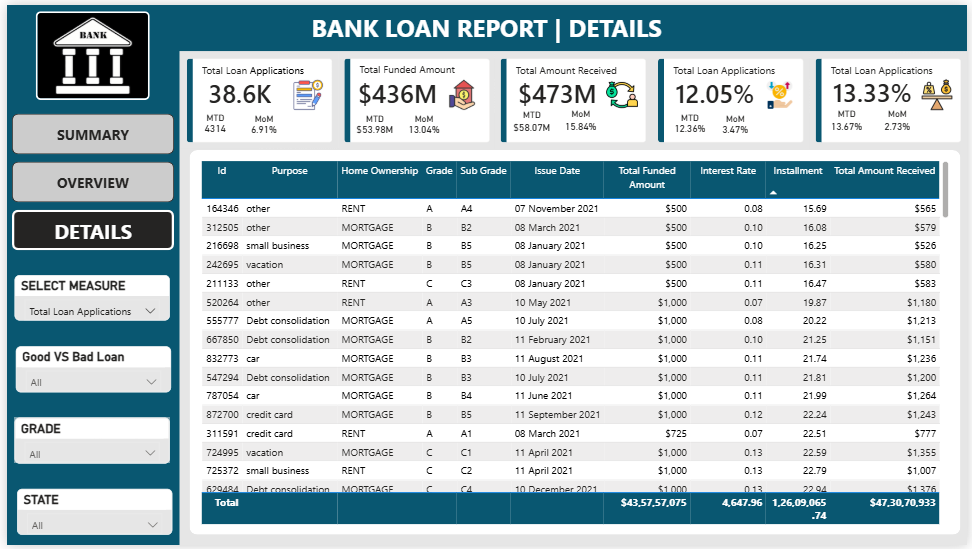

This screenshot's page, from the dashboard's own definition file:
{"tool":"powerbi","page":{"name":"DETAILS","canvas":[1280,720],"ordinal":2},"visuals":[{"type":"shape","box":[0,0,230,720],"z":0},{"type":"cardVisual","fields":{"Data":["financial_loan.Avg DTI"]},"box":[1070,63,210,128.8],"z":0,"group":"g4"},{"type":"cardVisual","fields":{"Data":["financial_loan.Total Loan Applications"]},"box":[231.7,63.3,210,128],"z":0,"group":"g1"},{"type":"cardVisual","fields":{"Data":["financial_loan.Total Amount Received"]},"box":[650,63.8,210,128.8],"z":0,"group":"g2"},{"type":"cardVisual","fields":{"Data":["financial_loan.Avg Interest Rate"]},"box":[860,63.8,210,128.8],"z":0,"group":"g3"},{"type":"shape","box":[0,0,1280,61.4],"z":1000},{"type":"textbox","box":[1093.3,72.3,169,31.9],"z":1000,"group":"g4"},{"type":"textbox","box":[255,72.6,169,31.7],"z":1000,"group":"g1"},{"type":"textbox","box":[673.3,73.1,169,31.9],"z":1000,"group":"g2"},{"type":"textbox","box":[883.3,73.1,169,31.9],"z":1000,"group":"g3"},{"type":"cardVisual","fields":{"Data":["financial_loan.Total Funded Amount"]},"box":[441,63,210,128.8],"z":2000},{"type":"card","title":"MTD","fields":{"Values":["financial_loan.MTD DTI"]},"box":[1093.3,138.6,52.2,41.1],"z":2000,"group":"g4"},{"type":"card","title":"MTD","fields":{"Values":["financial_loan.MTD Total Amount Received"]},"box":[668.6,139.7,62.9,41.4],"z":2000,"group":"g2"},{"type":"card","title":"MTD","fields":{"Values":["financial_loan.MTD Loan Applications"]},"box":[255,143.7,45.5,35.8],"z":2000,"group":"g1"},{"type":"card","title":"MTD","fields":{"Values":["financial_loan.MTD Interest Rate"]},"box":[883.6,144,54.5,37.3],"z":2000,"group":"g3"},{"type":"textbox","box":[361.4,2.9,555.7,55.7],"z":3000},{"type":"card","title":"MoM","fields":{"Values":["financial_loan.MOM Total Amount Received"]},"box":[737.8,138.5,53.3,42.2],"z":3000,"group":"g2"},{"type":"card","title":"MoM","fields":{"Values":["financial_loan.MOM DTI"]},"box":[1161.1,138.6,51.1,41.1],"z":3000,"group":"g4"},{"type":"card","title":"MoM","fields":{"Values":["financial_loan.MOM Loan Applications"]},"box":[319.7,144.3,45.5,35.5],"z":3000,"group":"g1"},{"type":"card","title":"MoM","fields":{"Values":["financial_loan.MOM Interest Rate"]},"box":[948,145.3,45.5,35.7],"z":3000,"group":"g3"},{"type":"textbox","box":[464.3,72.3,169,31.9],"z":4000},{"type":"card","title":"MTD","fields":{"Values":["financial_loan.MTD Funded Amount"]},"box":[458.6,144.3,64.3,35.7],"z":5000},{"type":"card","title":"MoM","fields":{"Values":["financial_loan.MOM Funded Amount"]},"box":[529.3,144.3,52.1,35.7],"z":6000},{"type":"group","id":"g1","title":"Group 1","box":[231.7,63.3,210,128],"z":7000},{"type":"group","id":"g2","title":"Group 1","box":[650,63.8,210,128.8],"z":8000},{"type":"group","id":"g3","title":"Group 1","box":[860,63.8,210,128.8],"z":9000},{"type":"group","id":"g4","title":"Group 1","box":[1070,63,210,128.8],"z":10000},{"type":"slicer","title":"STATE","fields":{"Values":["financial_loan.address_state"]},"box":[12.9,644.3,207.1,61.4],"z":11000},{"type":"slicer","title":"GRADE","fields":{"Values":["financial_loan.grade"]},"box":[10,549.4,207.1,61.4],"z":12000},{"type":"slicer","title":"Good VS Bad Loan","fields":{"Values":["financial_loan.Good VS Bad Loan"]},"box":[11.4,454.5,207.1,61.4],"z":13000},{"type":"slicer","title":"SELECT MEASURE","fields":{"Values":["Select Measure.Select Measure"]},"box":[10,360,207.1,61],"z":14000},{"type":"shape","box":[242.9,192.9,1028,512.9],"z":15000},{"type":"tableEx","fields":{"Values":["financial_loan.id","financial_loan.purpose","financial_loan.home_ownership","financial_loan.grade","financial_loan.sub_grade","financial_loan.issue_date","financial_loan.Total Funded Amount","Sum(financial_loan.int_rate)","Sum(financial_loan.installment)","financial_loan.Total Amount Received"]},"box":[253.8,202.5,1007.5,493.8],"z":16000},{"type":"pageNavigator","box":[6.7,145,216.7,183.3],"z":17000},{"type":"image","box":[38.3,8.3,151.7,118.3],"z":18000}]}

Visuals, with their boxes in screenshot pixels (x1, y1, x2, y2), scaled from the page's 1280x720 canvas onto the 972x549 screenshot:
shape: 0, 0, 175, 548
cardVisual - financial_loan.Avg DTI: 813, 48, 971, 146
cardVisual - financial_loan.Total Loan Applications: 176, 48, 335, 146
cardVisual - financial_loan.Total Amount Received: 494, 49, 653, 147
cardVisual - financial_loan.Avg Interest Rate: 653, 49, 813, 147
shape: 0, 0, 971, 47
textbox: 830, 55, 959, 79
textbox: 194, 55, 322, 80
textbox: 511, 56, 640, 80
textbox: 671, 56, 799, 80
cardVisual - financial_loan.Total Funded Amount: 335, 48, 494, 146
"MTD" card: 830, 106, 870, 137
"MTD" card: 508, 107, 555, 138
"MTD" card: 194, 110, 228, 137
"MTD" card: 671, 110, 712, 138
textbox: 274, 2, 696, 45
"MoM" card: 560, 106, 601, 138
"MoM" card: 882, 106, 921, 137
"MoM" card: 243, 110, 277, 137
"MoM" card: 720, 111, 754, 138
textbox: 353, 55, 481, 79
"MTD" card: 348, 110, 397, 137
"MoM" card: 402, 110, 442, 137
"Group 1" group: 176, 48, 335, 146
"Group 1" group: 494, 49, 653, 147
"Group 1" group: 653, 49, 813, 147
"Group 1" group: 813, 48, 971, 146
"STATE" slicer: 10, 491, 167, 538
"GRADE" slicer: 8, 419, 165, 466
"Good VS Bad Loan" slicer: 9, 347, 166, 393
"SELECT MEASURE" slicer: 8, 274, 165, 321
shape: 184, 147, 965, 538
tableEx - financial_loan.id x financial_loan.purpose: 193, 154, 958, 531
pageNavigator: 5, 111, 170, 250
image: 29, 6, 144, 97
